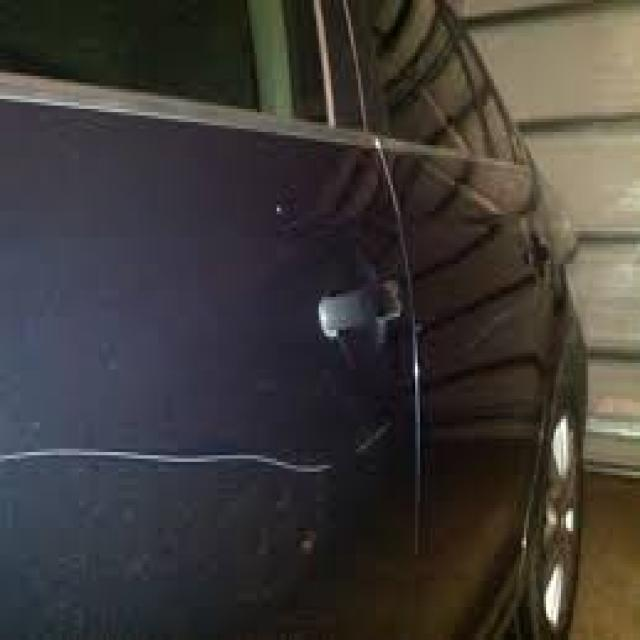front-bumper-dent: (0, 398, 406, 499)
paint-trace: (0, 402, 400, 484)
